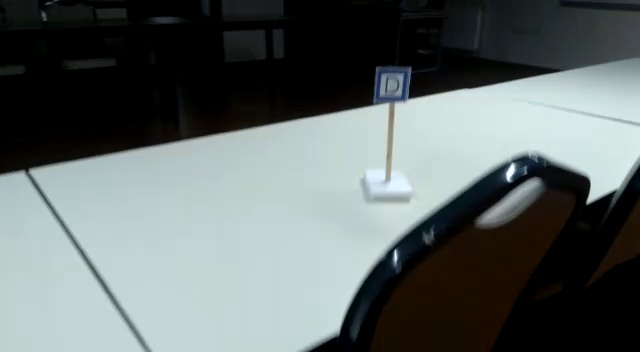durak: (374, 68, 409, 101)
